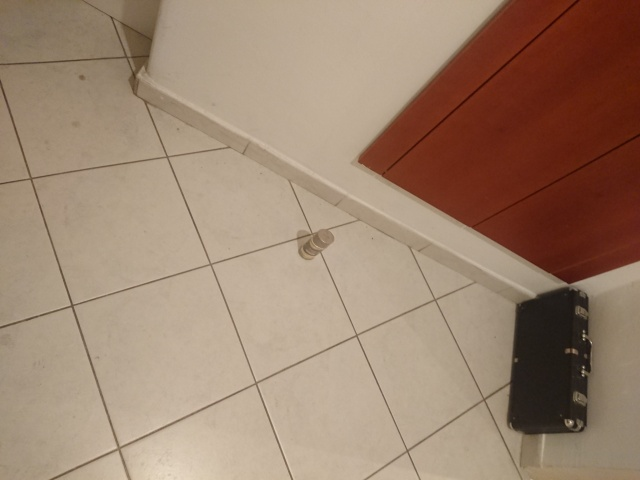Kotanyi Garlic Granules 70g: (297, 227, 336, 262)
